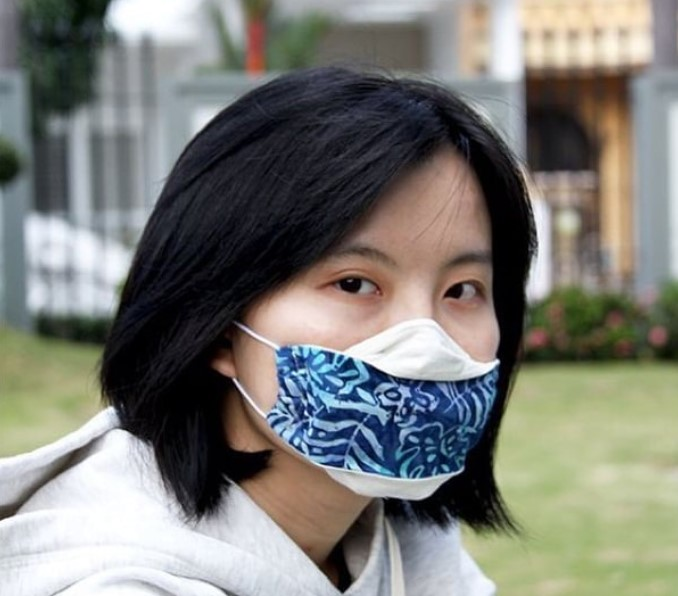face_with_mask: (176, 69, 522, 506)
